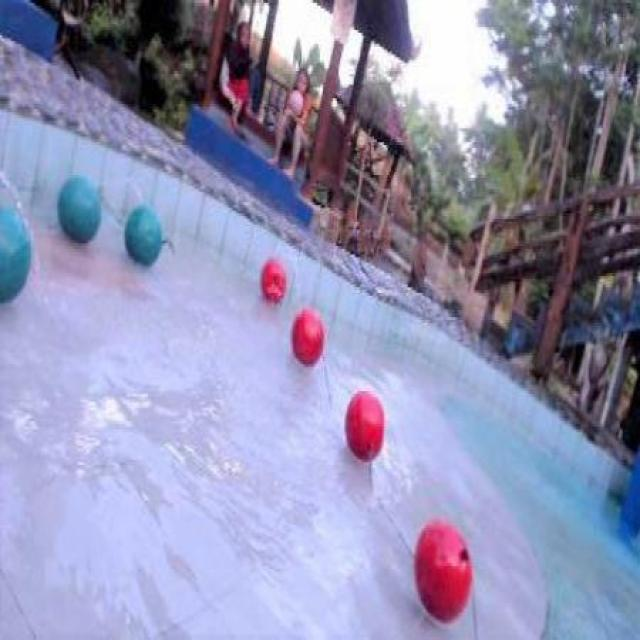buoy: (412, 517, 473, 621), (57, 176, 101, 245), (1, 205, 30, 304), (344, 391, 383, 462), (123, 204, 163, 267), (291, 306, 325, 367), (260, 257, 285, 301)
